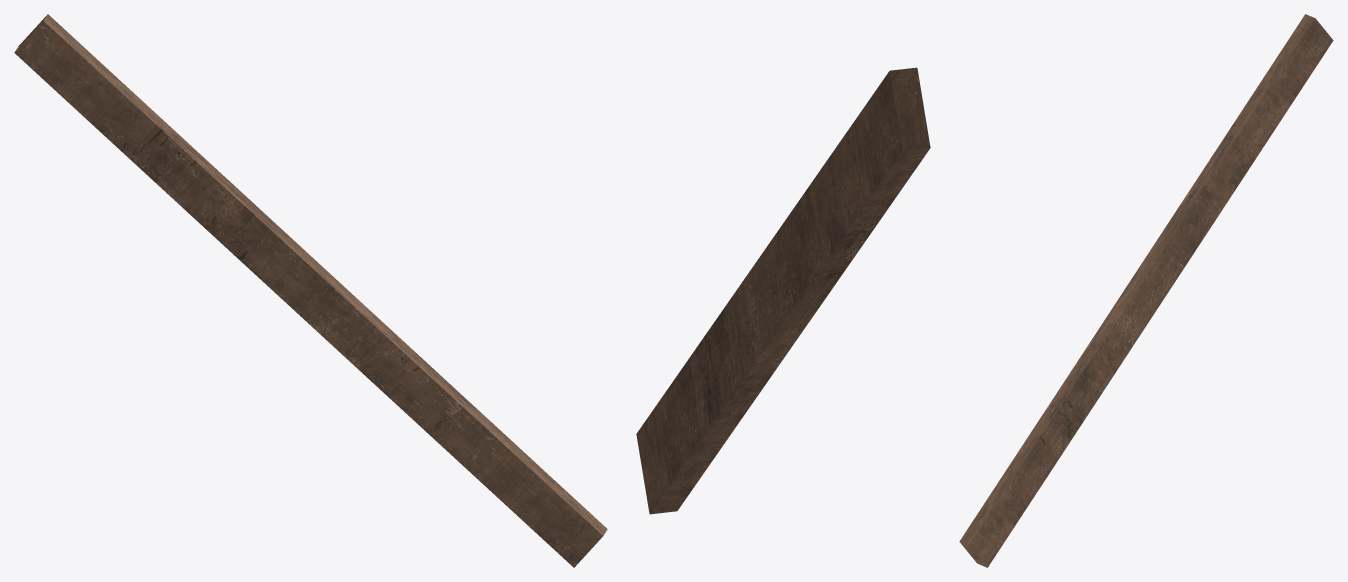
The model's file is SM_AtticBeam01_3_LOD0.glb.
The picture shows the model from 3 angles, left to right: view 1: azimuth 30°, elevation 25°; view 2: azimuth 150°, elevation 25°; view 3: azimuth 270°, elevation 25°; orthographic projection. The views are drawn at different scales.
Visible parts, largest first — view 1: SM_AtticBeam01_3_LOD0; view 2: SM_AtticBeam01_3_LOD0; view 3: SM_AtticBeam01_3_LOD0.
Boxes of the visible parts, box(x1,y1,x2,y2) form: SM_AtticBeam01_3_LOD0: box(14, 14, 607, 567); SM_AtticBeam01_3_LOD0: box(636, 67, 930, 514); SM_AtticBeam01_3_LOD0: box(959, 14, 1333, 567).
Size of the model in its own units: 3.51 by 4.26 by 3.51.
1 material, 1 textured.
